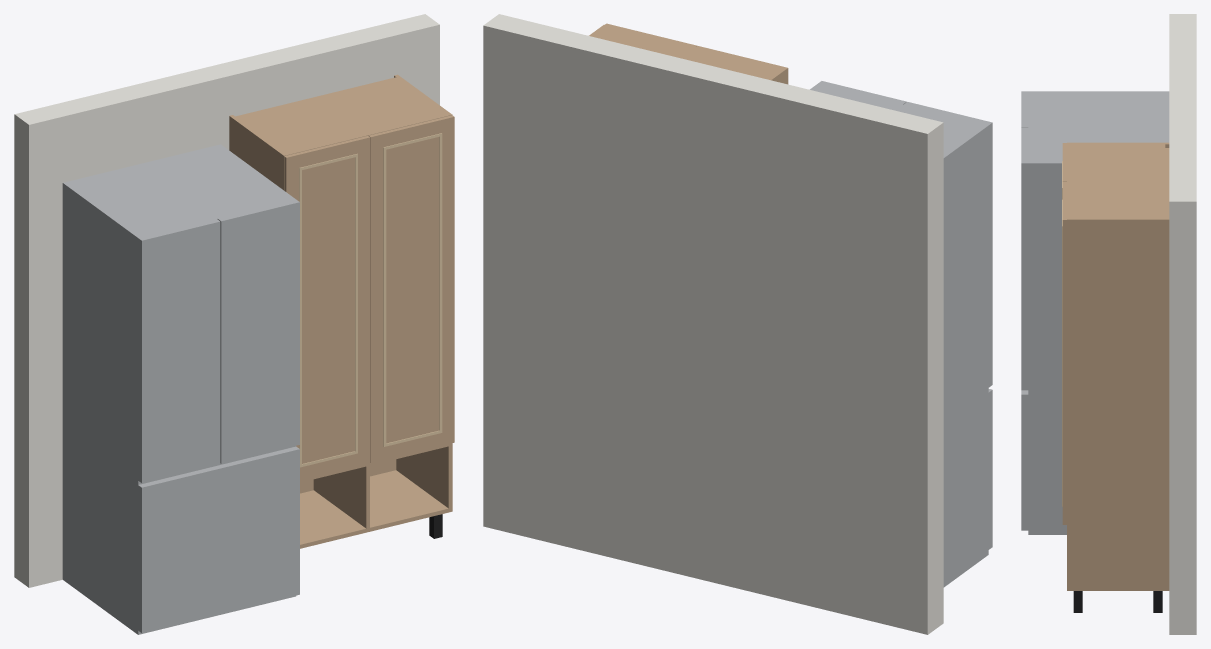
The model's file is pantry-cupboard-east-finchley.glb.
3 renders of one model, left to right at view 1: azimuth 30°, elevation 25°; view 2: azimuth 150°, elevation 25°; view 3: azimuth 270°, elevation 25°, orthographic. The views are drawn at different scales.
Parts seen in each view (by area): view 1: Room: Back wall, Room: Fridge, Door, right (hinged right), Room: Freezer drawer, Door, left (hinged left), Room: Fridge door, left, Room: Fridge door, right, Top, Bottom, Moulding, right door, Side, right, Cubby divider (+2 smaller); view 2: Room: Back wall, Room: Fridge, Top, Room: Fridge door, left, Room: Freezer drawer; view 3: Side, right, Room: Fridge, Room: Back wall, Top, Room: Fridge door, right, Door, right (hinged right), Room: Freezer drawer, Back, 18 mm, Side, left, Moulding, right door, Room: Fridge door, left.
Part boxes in pixels (x1,y1,x2,y2): Room: Back wall: (14, 14, 439, 587); Room: Fridge: (62, 144, 296, 634); Door, right (hinged right): (368, 115, 454, 462); Room: Freezer drawer: (138, 446, 299, 632); Door, left (hinged left): (284, 136, 370, 480); Room: Fridge door, left: (138, 219, 220, 482); Room: Fridge door, right: (217, 199, 299, 463); Top: (235, 77, 448, 155); Bottom: (300, 470, 448, 548); Moulding, right door: (383, 133, 442, 446); Side, right: (394, 74, 452, 512); Cubby divider: (313, 465, 369, 528); Room: Back wall: (483, 14, 943, 634); Room: Fridge: (810, 84, 988, 587); Top: (593, 25, 781, 79); Room: Fridge door, left: (904, 102, 992, 387); Room: Freezer drawer: (988, 389, 992, 549); Side, right: (1067, 217, 1169, 590); Room: Fridge: (1028, 91, 1169, 534); Room: Back wall: (1169, 14, 1196, 634); Top: (1067, 144, 1165, 217); Room: Fridge door, right: (1021, 127, 1028, 390); Door, right (hinged right): (1062, 181, 1066, 524); Room: Freezer drawer: (1021, 390, 1028, 530); Back, 18 mm: (1165, 148, 1169, 217); Side, left: (1067, 142, 1169, 147); Moulding, right door: (1062, 199, 1062, 506); Room: Fridge door, left: (1021, 91, 1028, 127).
Size of the model in its own units: 1.95 by 2.1 by 0.77.
